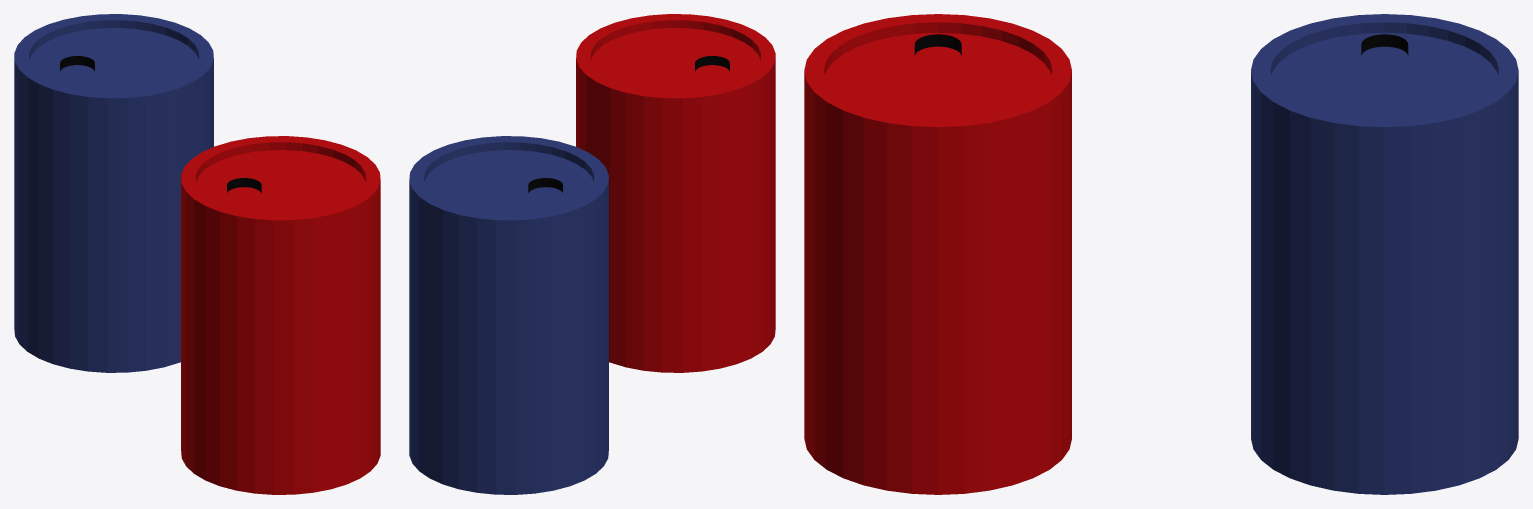
The model's file is M_024.oil drum.fbx.
3 renders of one model, left to right at view 1: azimuth 30°, elevation 25°; view 2: azimuth 150°, elevation 25°; view 3: azimuth 270°, elevation 25°, orthographic. The views are drawn at different scales.
Parts seen in each view (by area): view 1: Drum Orange, Drum Blue; view 2: Drum Blue, Drum Orange; view 3: Drum Blue, Drum Orange.
Boxes of the visible parts, x1,y1,x2,y2 form: Drum Orange: [181, 136, 380, 494]; Drum Blue: [14, 14, 213, 372]; Drum Blue: [409, 136, 608, 494]; Drum Orange: [576, 14, 775, 372]; Drum Blue: [1251, 14, 1518, 494]; Drum Orange: [804, 14, 1071, 494].
Size of the model in its own units: 272 by 415 by 726.
